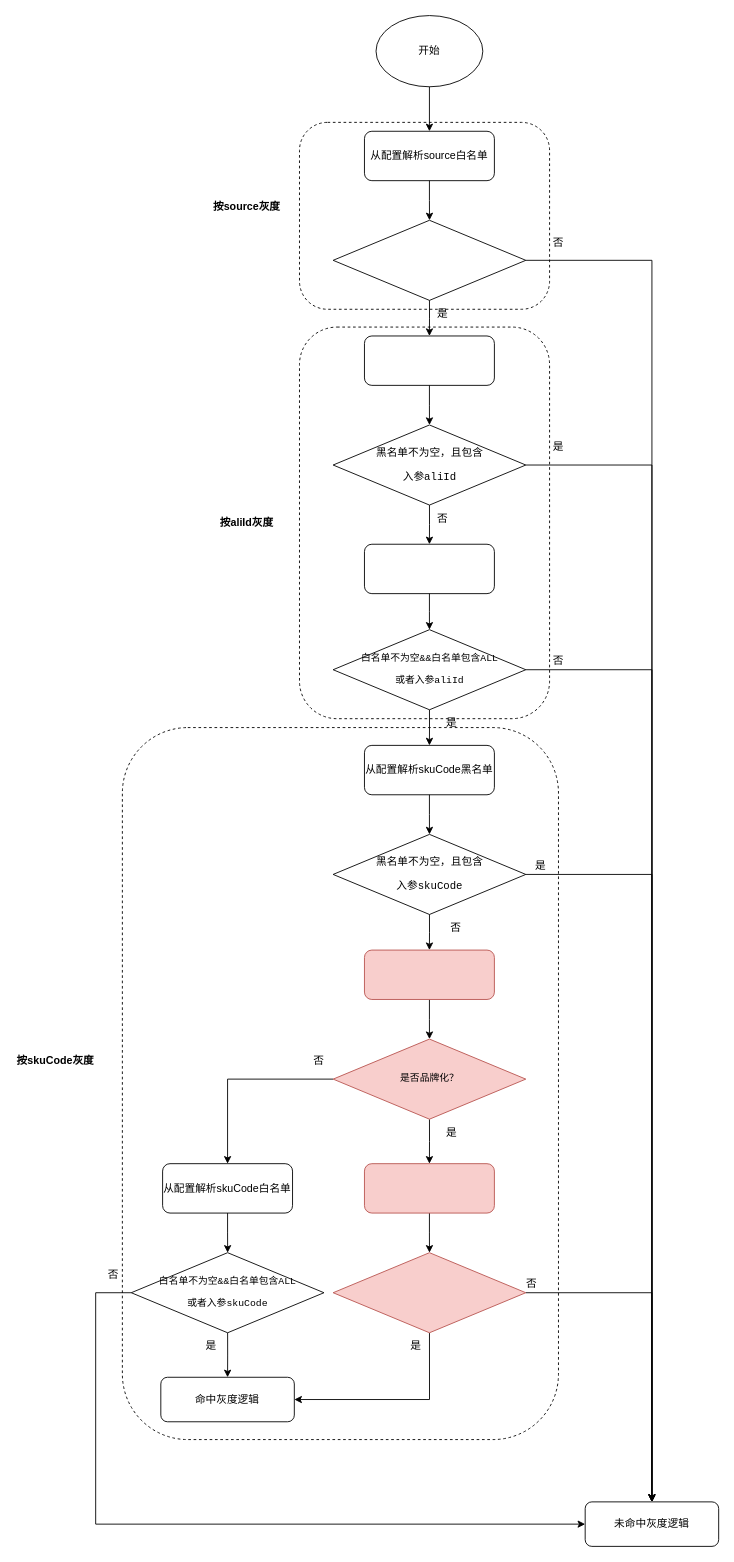
The diagram is 734 pixels wide and 1562 high, and some of its shapes have lost their labels. Each missing label, with the box of its shape:
skuCode是否在品牌化灰度白名单？: (332, 1252, 526, 1333)
从配置解析aliId白名单: (364, 543, 494, 594)
从配置解析aliId黑名单: (364, 335, 494, 385)
白名单不为空&&白名单包含ALL 或者 入参source: (332, 219, 526, 300)
获取Diamond品牌化灰度名单: (364, 1163, 494, 1213)
获取sku品牌化信息: (364, 949, 494, 999)
